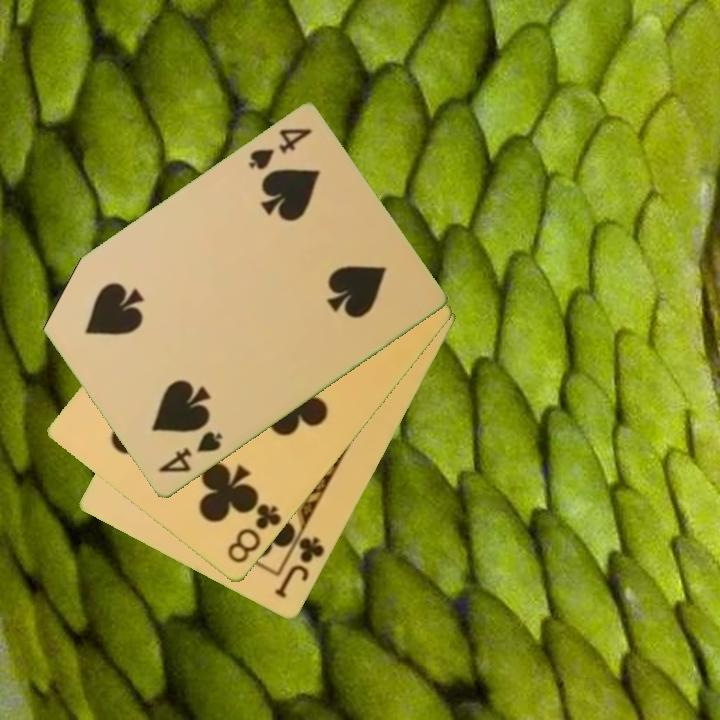4s: (155, 428, 226, 477), (244, 125, 315, 174)
8c: (223, 500, 285, 567)
Jc: (271, 533, 328, 602)
